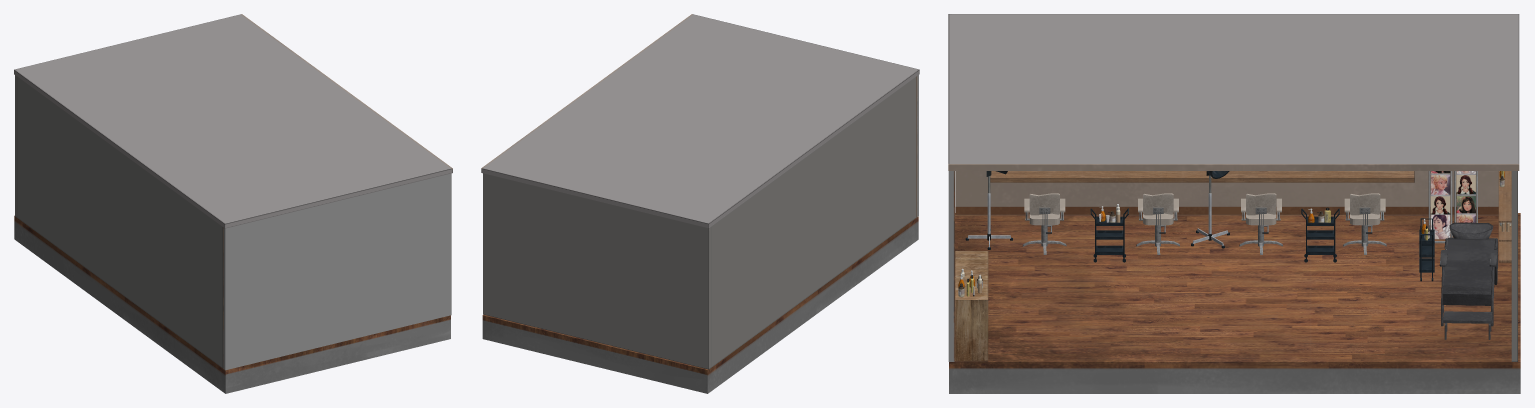
Rendered from barber shop02.fbx.
3 renders of one model, left to right at view 1: azimuth 30°, elevation 25°; view 2: azimuth 150°, elevation 25°; view 3: azimuth 270°, elevation 25°, orthographic. The views are drawn at different scales.
Visible parts, largest first — view 1: Cube.010, Cube.018, Cube.020, Cube.039, Cube.016; view 2: Cube.010, Cube.016, Cube.020, Cube.039, Cube.018; view 3: Cube.010, Cube.039, Cube.020, Cube.040, Plane.001, Cube.042, Cylinder.094, Cylinder.003, Cylinder.001, Cylinder.002, Cube.016, Cube.018 (+8 smaller).
Boxes of the visible parts, <box> form: Cube.010: <box>14,14,452,228</box>; Cube.018: <box>223,173,451,370</box>; Cube.020: <box>17,77,222,368</box>; Cube.039: <box>14,215,450,393</box>; Cube.016: <box>15,75,17,217</box>; Cube.010: <box>481,14,919,228</box>; Cube.016: <box>483,173,711,369</box>; Cube.020: <box>711,76,916,367</box>; Cube.039: <box>482,216,918,393</box>; Cube.018: <box>916,75,918,217</box>; Cube.010: <box>948,14,1519,170</box>; Cube.039: <box>949,213,1520,393</box>; Cube.020: <box>955,171,1498,215</box>; Cube.040: <box>990,171,1414,182</box>; Plane.001: <box>1439,237,1497,326</box>; Cube.042: <box>955,251,988,361</box>; Cylinder.094: <box>1022,193,1066,254</box>; Cylinder.003: <box>1343,193,1386,254</box>; Cylinder.001: <box>1136,193,1179,254</box>; Cylinder.002: <box>1239,193,1282,254</box>; Cube.016: <box>1511,171,1517,361</box>; Cube.018: <box>948,171,954,361</box>.
Size of the model in its own units: 272 by 194 by 437.
